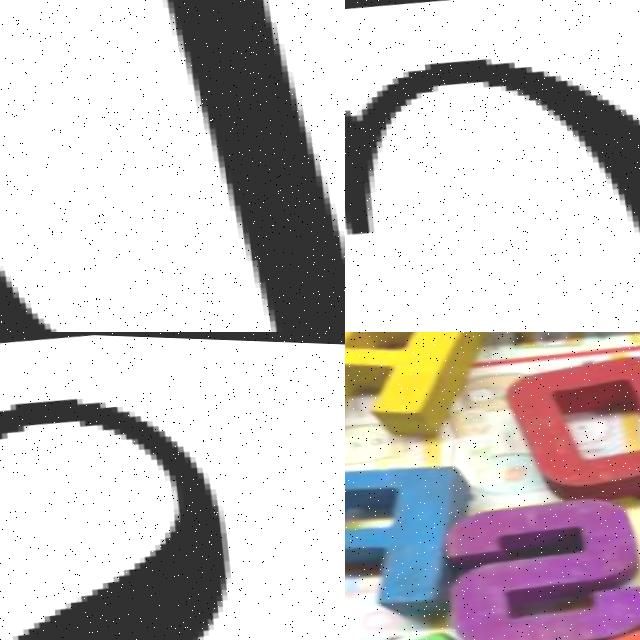C: (345, 56, 640, 245)
L: (0, 0, 345, 332)
O: (505, 344, 640, 500)
P: (345, 445, 481, 622)
R: (345, 332, 492, 441)
S: (0, 348, 345, 640), (435, 484, 640, 640)
